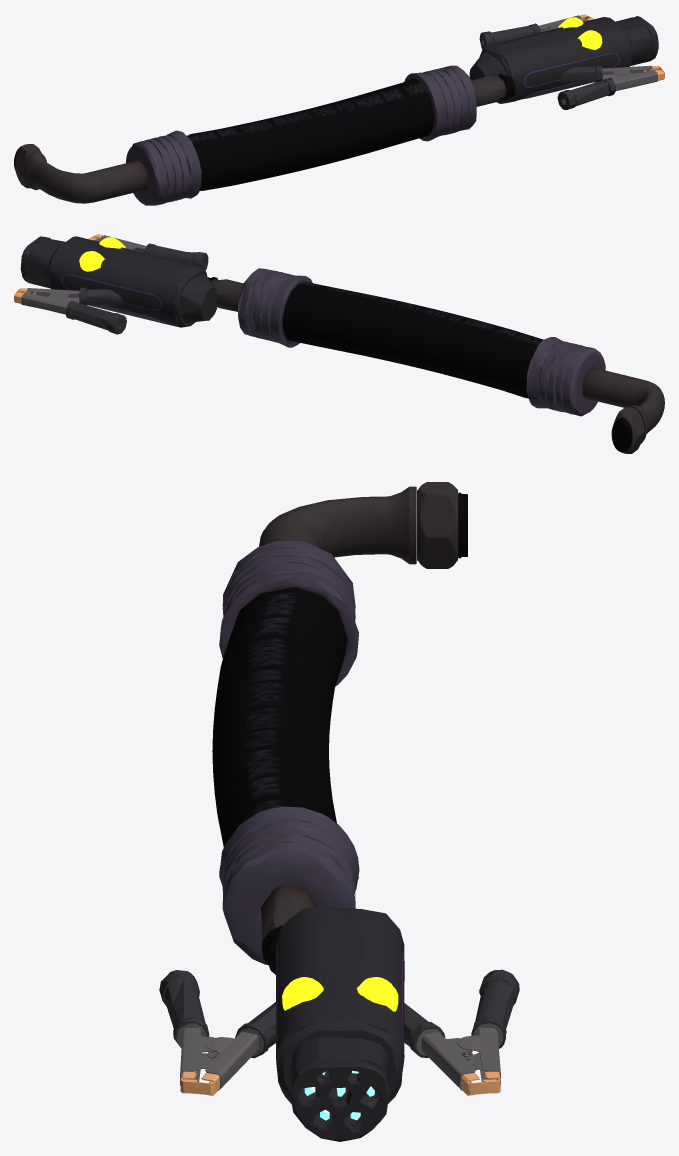
The model's file is energy_leech.glb.
3 views of the same model, one above another, from view 1: azimuth 30°, elevation 25°; view 2: azimuth 150°, elevation 25°; view 3: azimuth 270°, elevation 25° (orthographic). The views are drawn at different scales.
Parts seen in each view (by area): view 1: head, seg_1, seg_2, seg_5, seg_4, seg_3, jaw_l, seg_0, jaw_r, eye_l; view 2: head, seg_1, seg_2, seg_3, seg_5, seg_4, jaw_r, seg_0, jaw_l, eye_r; view 3: head, seg_5, seg_0, seg_1, seg_2, seg_3, seg_4, jaw_r, jaw_l, eye_r.
Part boxes in pixels (x1,y1,x2,y2): head: [469, 16, 658, 103]; seg_1: [338, 69, 460, 156]; seg_2: [264, 93, 390, 176]; seg_5: [14, 144, 156, 204]; seg_4: [126, 130, 238, 205]; seg_3: [189, 117, 297, 190]; jaw_l: [557, 65, 664, 109]; seg_0: [424, 65, 515, 134]; jaw_r: [479, 14, 594, 49]; eye_l: [577, 30, 602, 49]; head: [20, 236, 217, 327]; seg_1: [254, 272, 391, 357]; seg_2: [333, 292, 472, 377]; seg_3: [435, 315, 540, 398]; seg_5: [574, 352, 664, 453]; seg_4: [506, 333, 605, 416]; jaw_r: [14, 287, 126, 334]; seg_0: [207, 268, 298, 341]; jaw_l: [88, 234, 208, 270]; eye_r: [79, 251, 105, 271]; head: [276, 906, 404, 1141]; seg_5: [259, 482, 467, 568]; seg_0: [222, 808, 358, 974]; seg_1: [214, 736, 359, 898]; seg_2: [212, 662, 331, 822]; seg_3: [214, 596, 345, 729]; seg_4: [219, 541, 358, 686]; jaw_r: [404, 969, 519, 1095]; jaw_l: [159, 970, 276, 1095]; eye_r: [356, 977, 398, 1011].
Size of the model in its own units: 1.25 by 0.1262 by 0.3235.
Materials: 10 (2 with a texture image).
